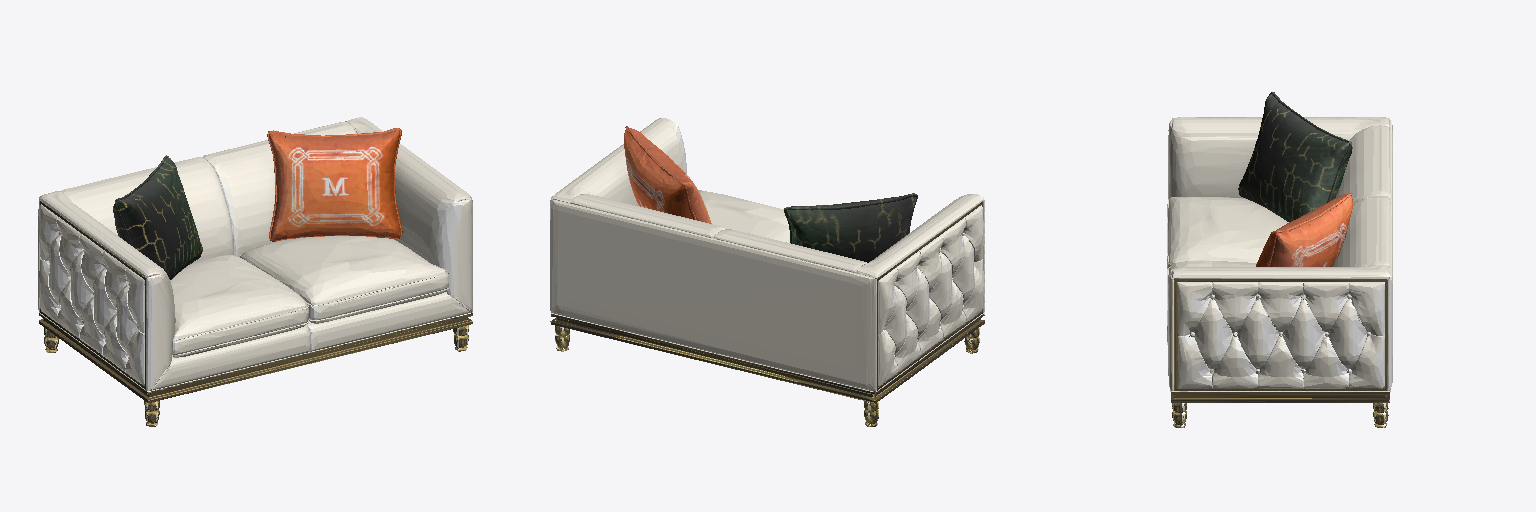
3 views of the same model, side by side, from view 1: azimuth 30°, elevation 25°; view 2: azimuth 150°, elevation 25°; view 3: azimuth 270°, elevation 25° (orthographic).
Visible parts, largest first — view 1: solid_002, solid_004, solid_003, solid_001; view 2: solid_002, solid_001, solid_003, solid_004; view 3: solid_002, solid_003, solid_001, solid_004.
Boxes of the visible parts, x1,y1,x2,y2 form: solid_002: [38, 117, 472, 391]; solid_004: [267, 128, 402, 241]; solid_003: [113, 155, 202, 279]; solid_001: [39, 201, 472, 426]; solid_002: [550, 118, 984, 391]; solid_001: [550, 202, 984, 426]; solid_003: [784, 193, 917, 262]; solid_004: [624, 126, 711, 223]; solid_002: [1167, 117, 1392, 391]; solid_003: [1238, 92, 1352, 221]; solid_001: [1171, 279, 1389, 427]; solid_004: [1256, 193, 1352, 266].
Size of the model in its own units: 1.55 by 0.8213 by 0.8919.
Materials: 1 (1 with a texture image).